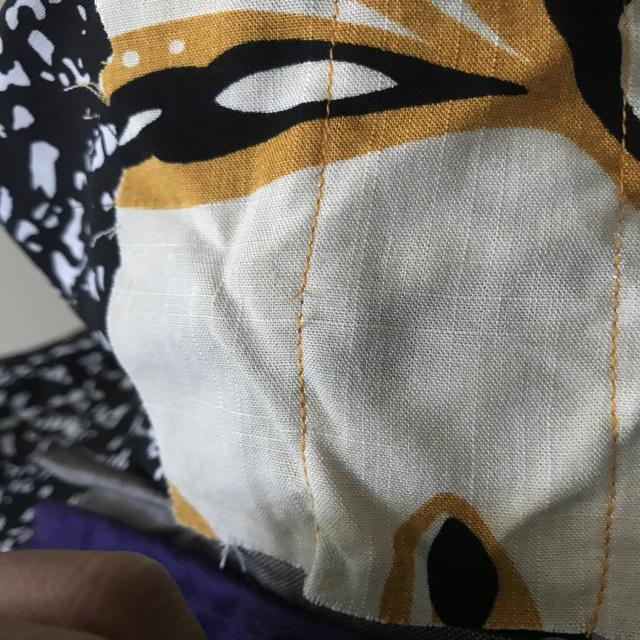broken: (282, 284, 327, 329)
